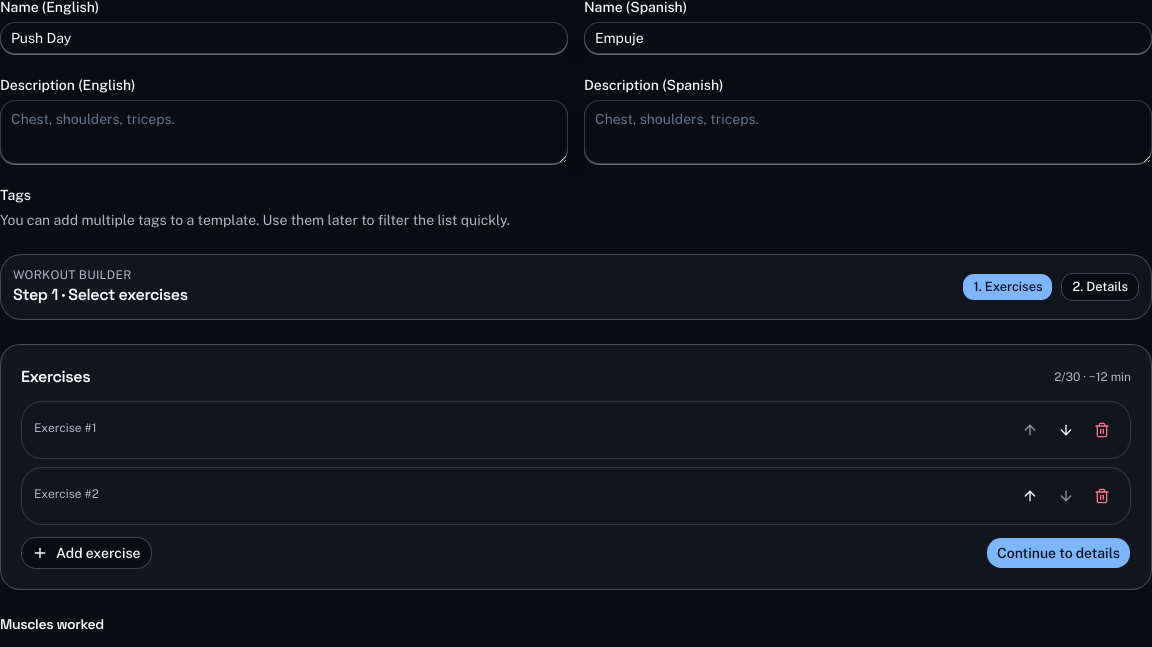
Test case: TemplateForm save — supersets › locks a follower's set count in the UI
Click the button "2. Details" at coordinates (1100, 287), box [1061, 273, 1139, 301]
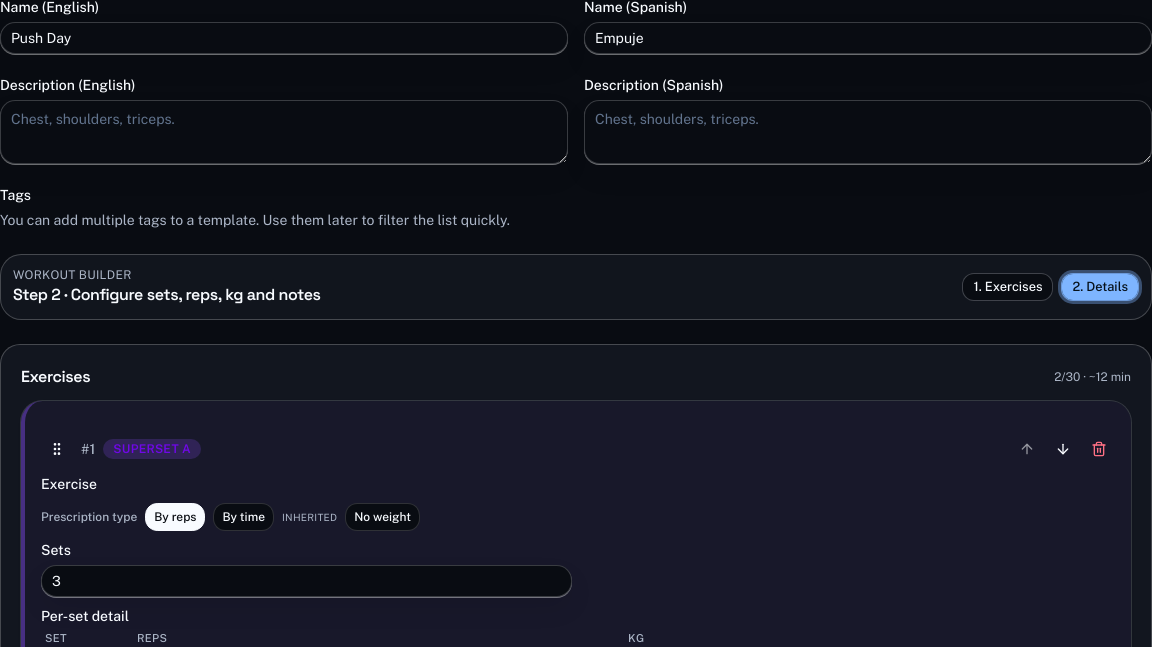
Expected: the field labelled "Sets" is enabled, [41, 565, 572, 597]
